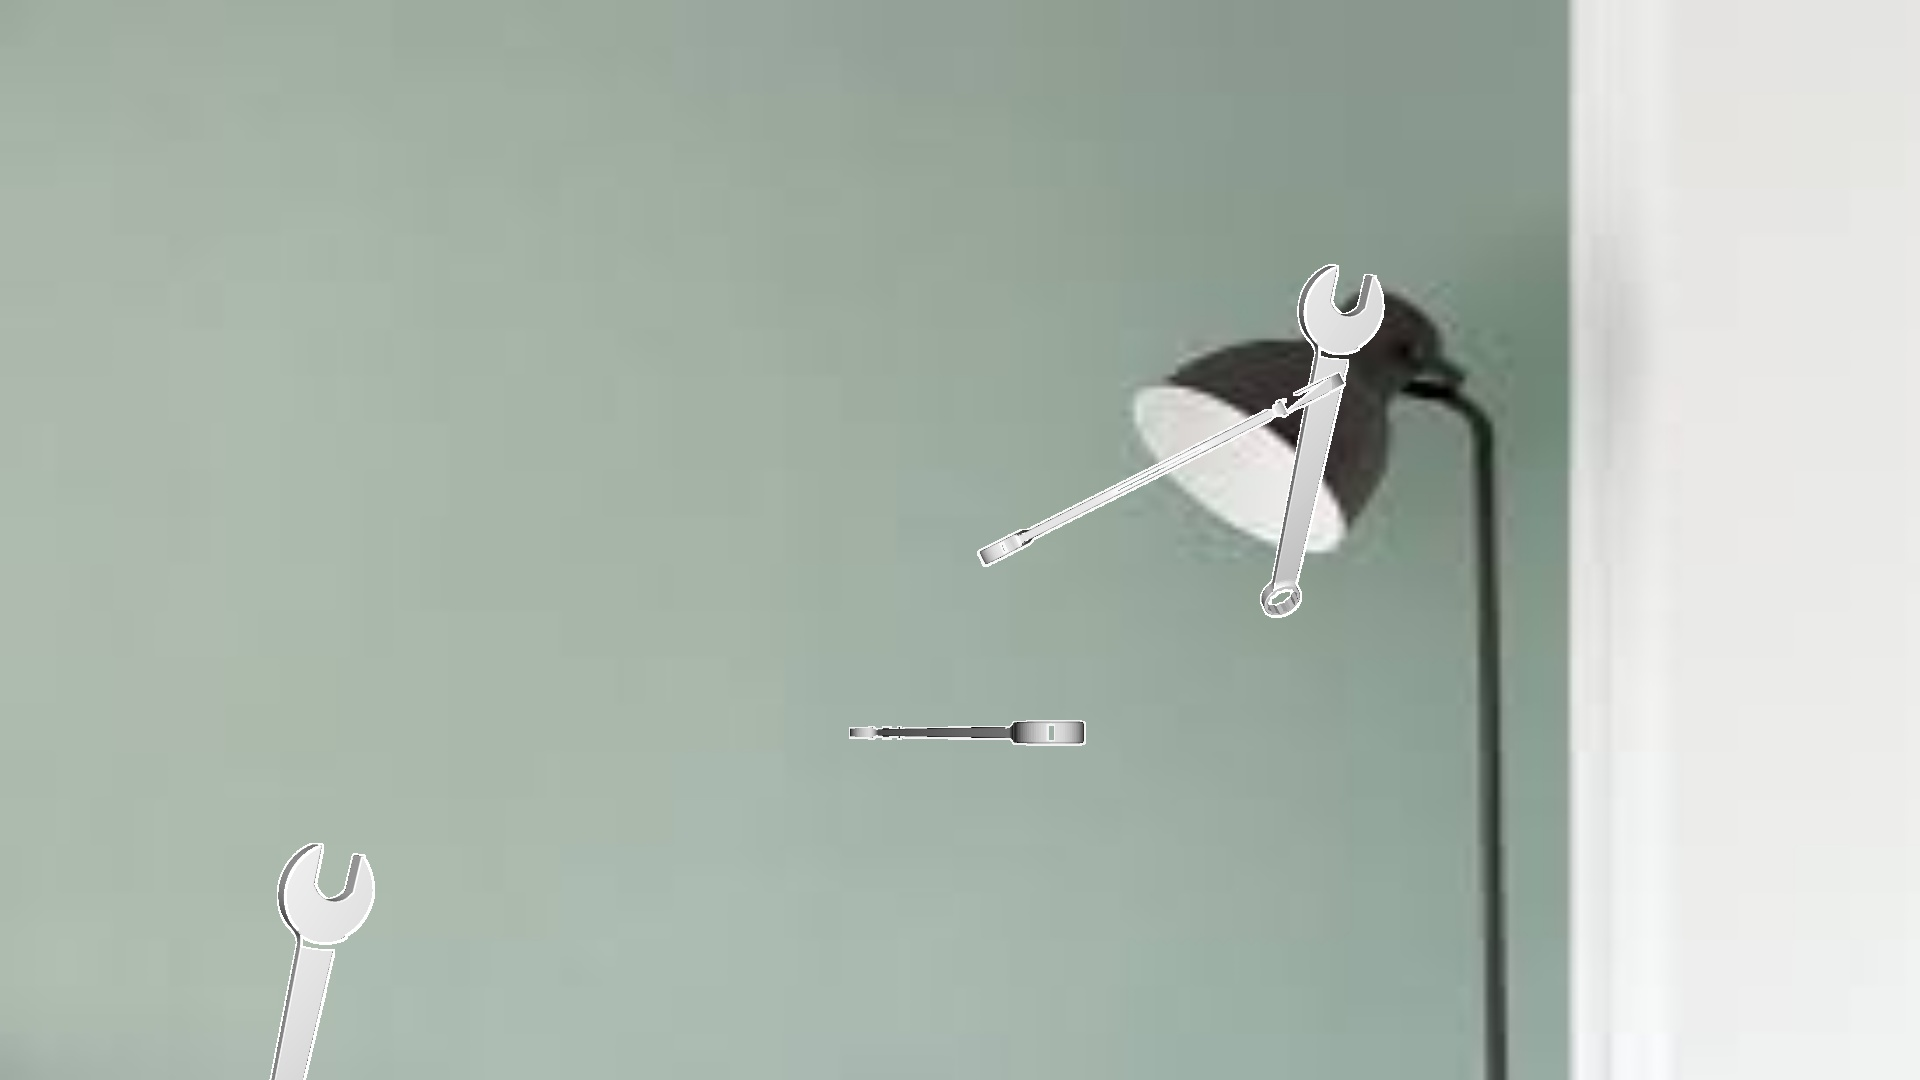Mixed Key: (977, 372, 1345, 566), (1261, 264, 1385, 617), (269, 843, 375, 1079), (849, 720, 1085, 745)
